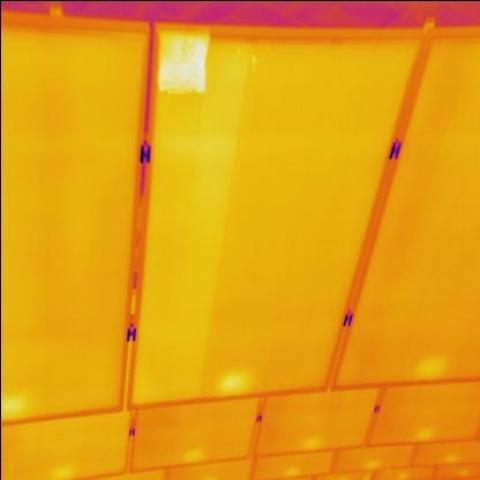fault: (156, 25, 204, 90)
